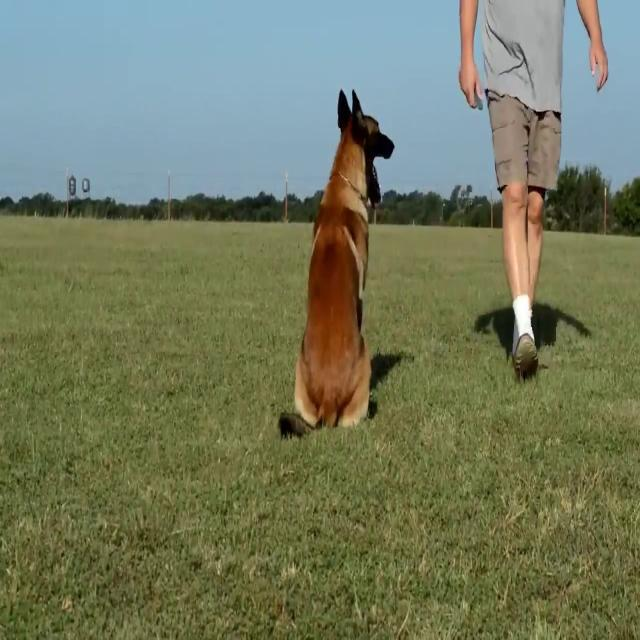Unleashed_Dog: (278, 89, 528, 436)
